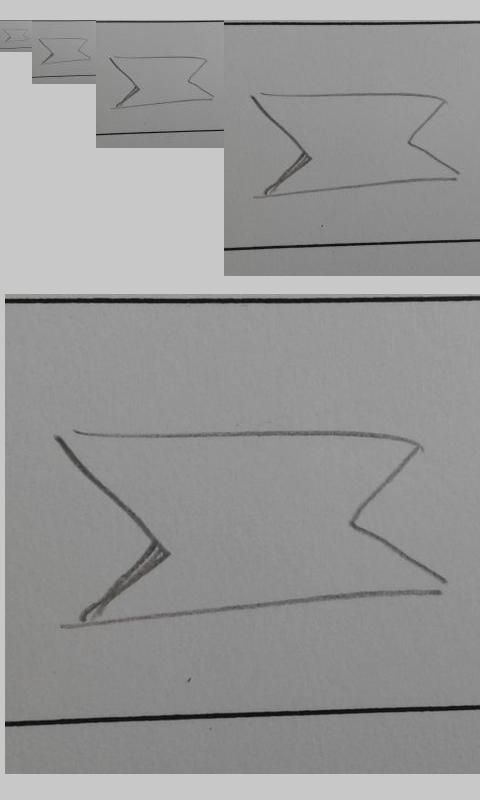edit_text: (53, 428, 448, 628), (249, 91, 460, 198), (108, 56, 215, 109), (38, 37, 92, 65), (2, 28, 30, 43)
